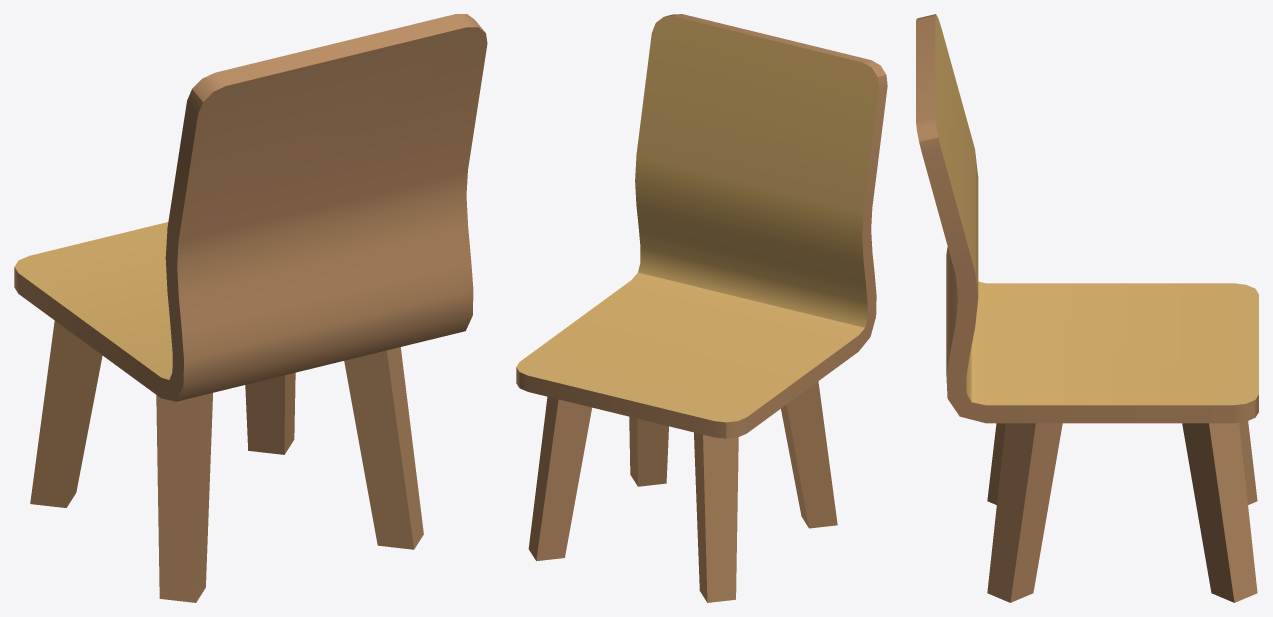
Rendered from Library chair.fbx.
3 views of the same model, side by side, from view 1: azimuth 30°, elevation 25°; view 2: azimuth 150°, elevation 25°; view 3: azimuth 270°, elevation 25° (orthographic). The views are drawn at different scales.
Parts seen in each view (by area): view 1: Library chair; view 2: Library chair; view 3: Library chair.
Boxes of the visible parts, x1,y1,x2,y2 form: Library chair: (14, 14, 487, 602); Library chair: (516, 14, 887, 602); Library chair: (916, 14, 1258, 602).
Bounding box in the file's own units: 58.93 × 108 × 69.92.
